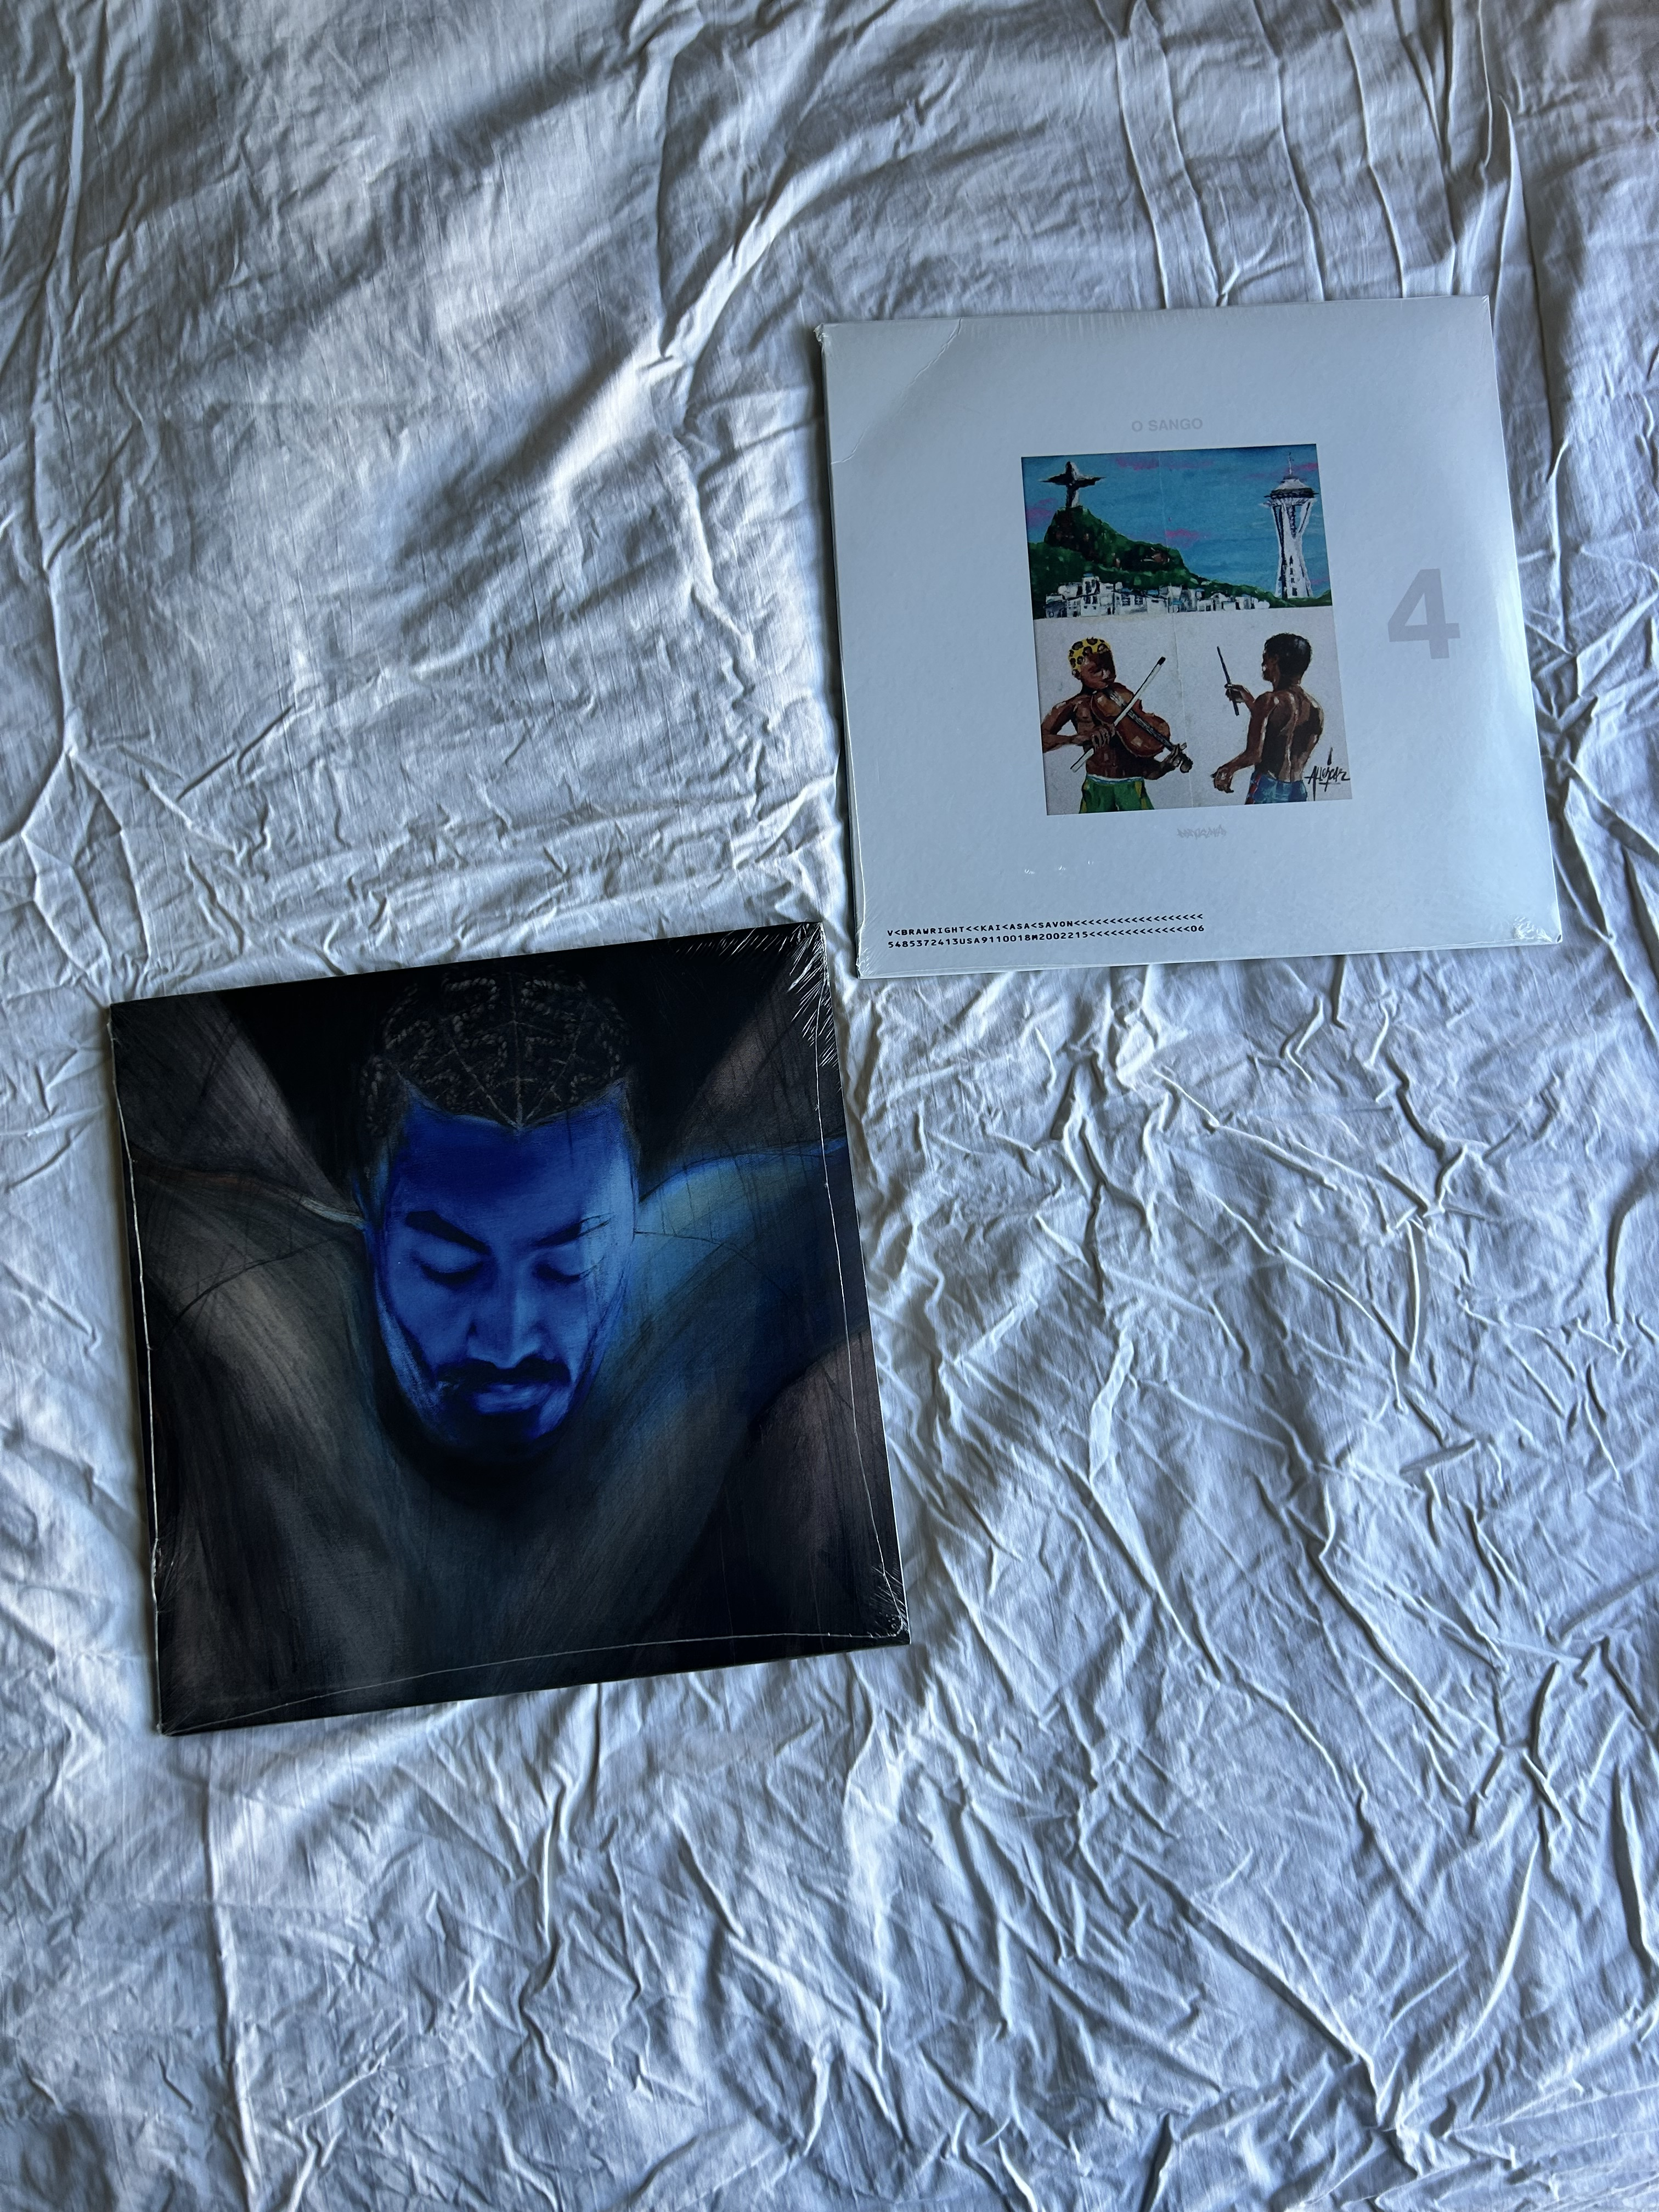navy blue_song of sage: post panic!: (77, 996, 847, 1740)
sango_da rocinha 4: (803, 317, 1542, 982)
